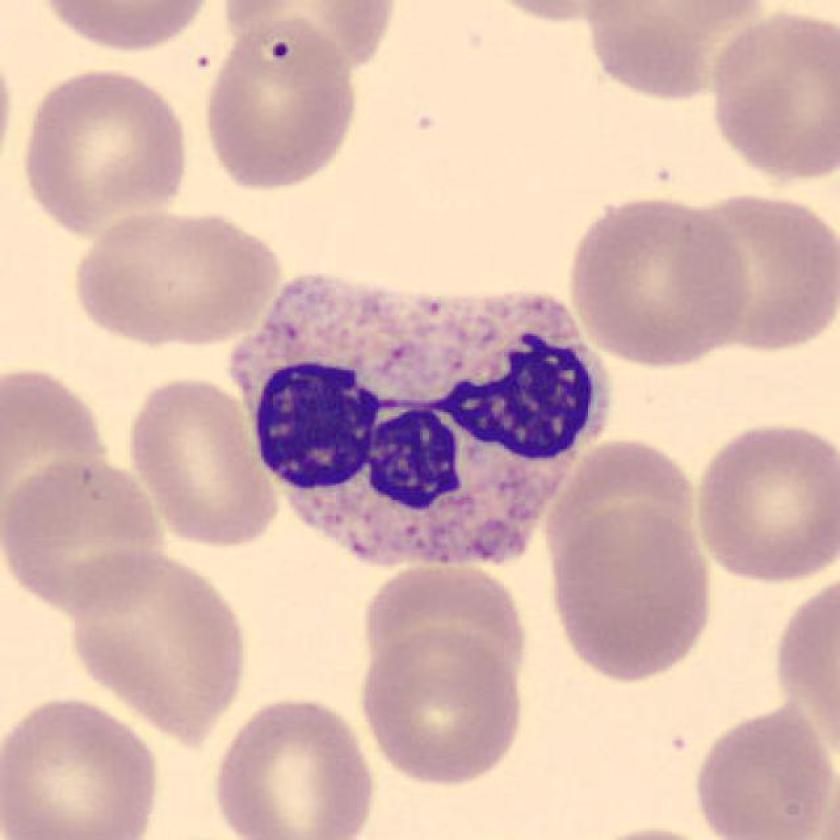neutrophil: (231, 272, 609, 561)
